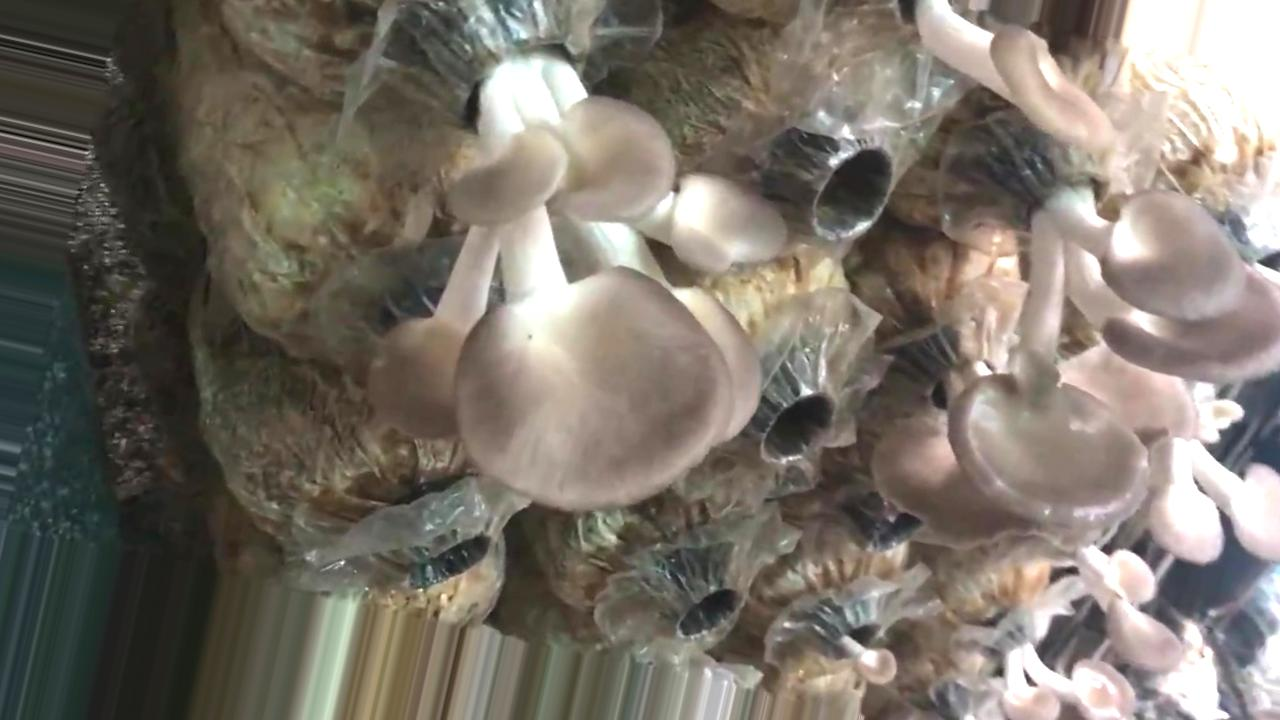nam: (367, 7, 782, 506), (946, 142, 1280, 514), (911, 1, 1115, 150), (1146, 384, 1280, 564), (1067, 527, 1184, 668), (998, 602, 1134, 720), (823, 603, 896, 680)
